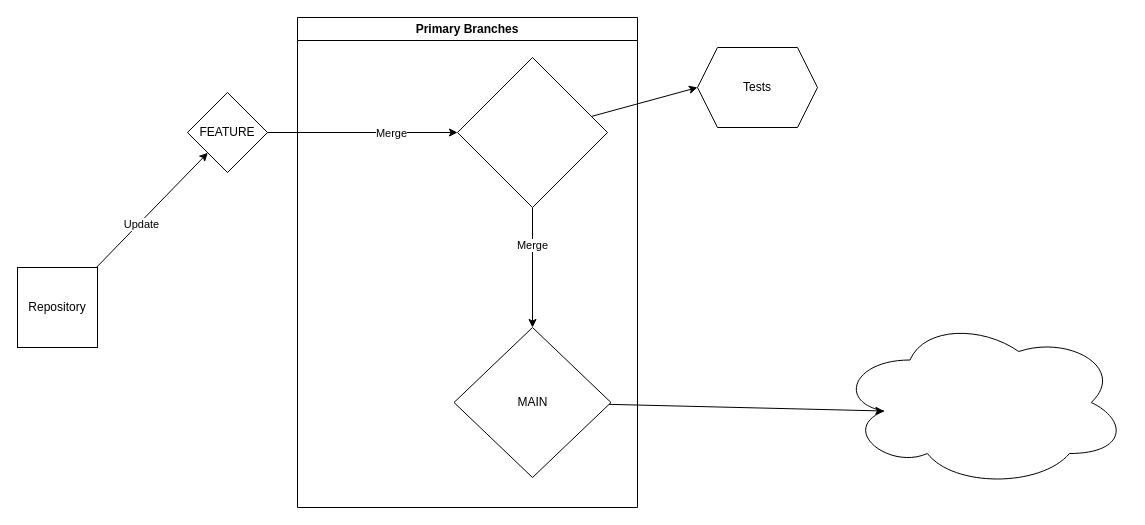
The diagram is 1145 pixels wide and 525 high, and some of its shapes have lost their labels. The centre of each missing label's shape, as x and y in pixels:
"DEV" belongs at [532,132].
"The Public Internet" belongs at [982,402].
